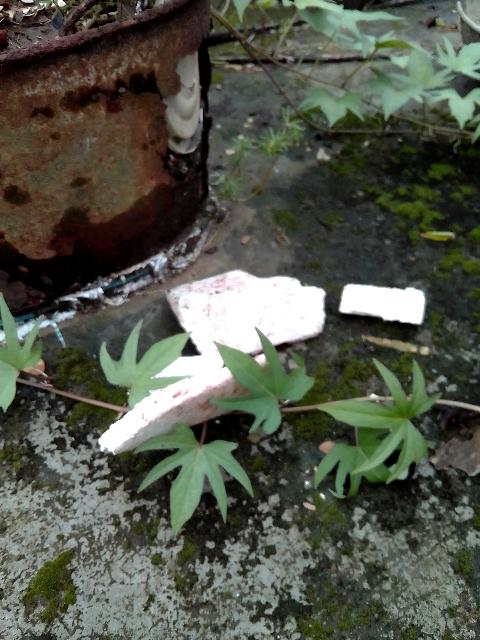cocksheet: (72, 229, 315, 459)
